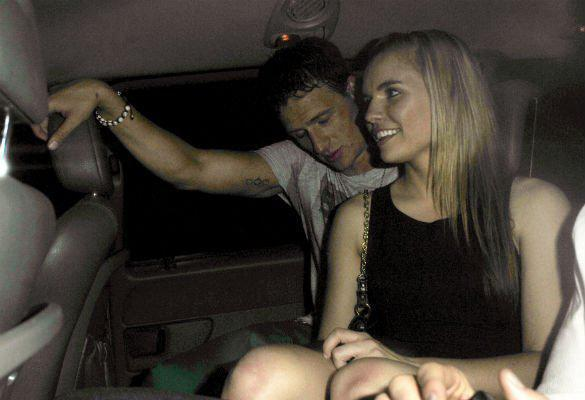Drunk: (358, 61, 436, 163), (281, 86, 356, 172)
